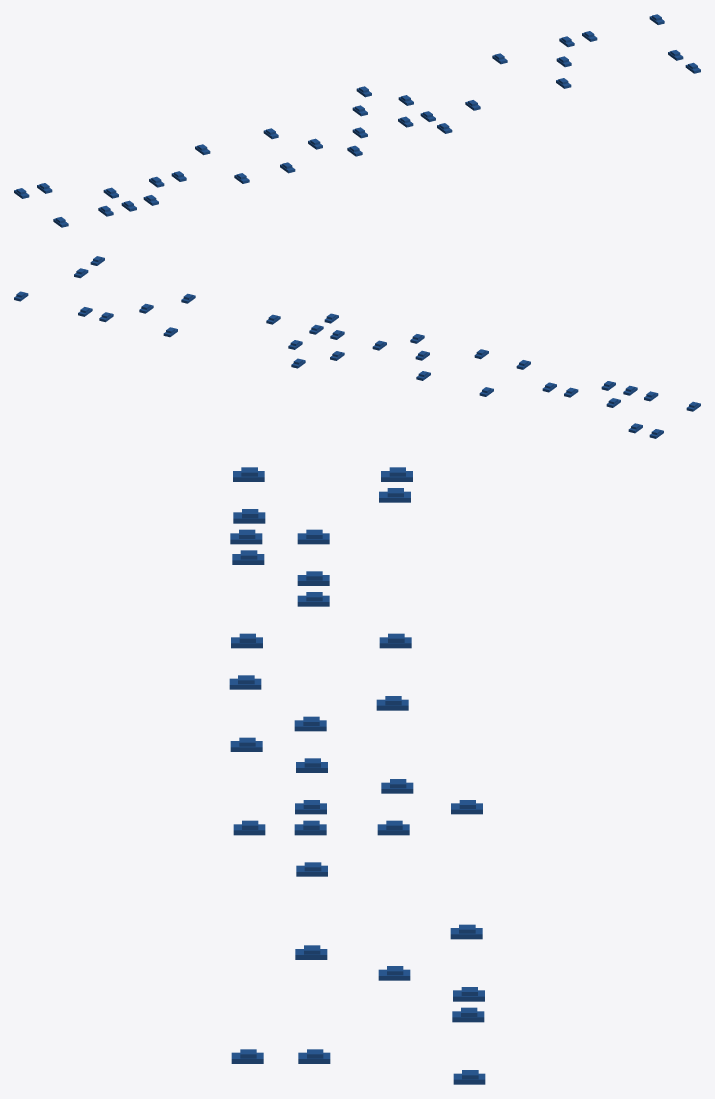
The model's file is SM_DK_08_Parking_vehicles_blue.fbx.
3 views of the same model, one above another, from view 1: azimuth 30°, elevation 25°; view 2: azimuth 150°, elevation 25°; view 3: azimuth 270°, elevation 25° (orthographic). The views are drawn at different scales.
Visible parts, largest first — view 1: 08 Parking vehicles | blue; view 2: 08 Parking vehicles | blue; view 3: 08 Parking vehicles | blue.
Boxes of the visible parts, <box> form: 08 Parking vehicles | blue: <box>14,14,700,227</box>; 08 Parking vehicles | blue: <box>14,256,700,438</box>; 08 Parking vehicles | blue: <box>229,467,485,1084</box>.
Bounding box in the file's own units: 17580 × 3124 × 120.
